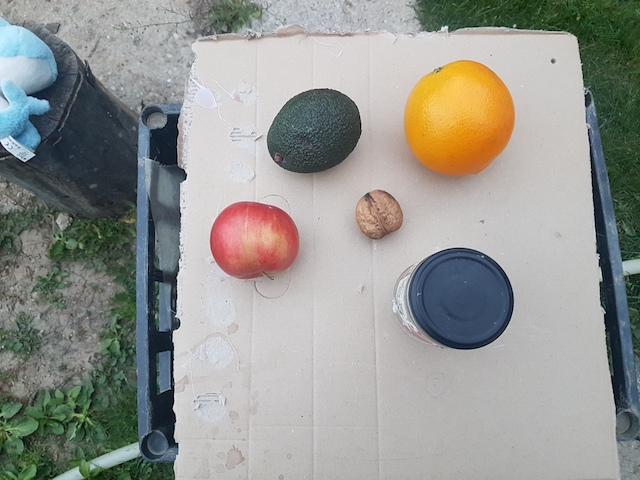apple: (208, 200, 302, 285)
avocado: (264, 86, 365, 175)
nut: (349, 187, 406, 241)
orange: (403, 56, 518, 177)
recipient: (412, 246, 518, 351)
